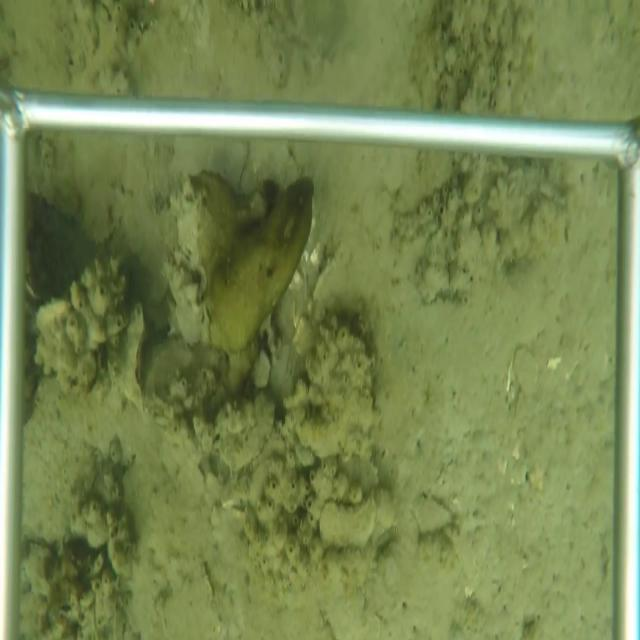Oyster-Closed: (121, 296, 148, 418)
Oyster-Indeterminate: (212, 392, 278, 474), (317, 484, 380, 557), (411, 492, 456, 541)
